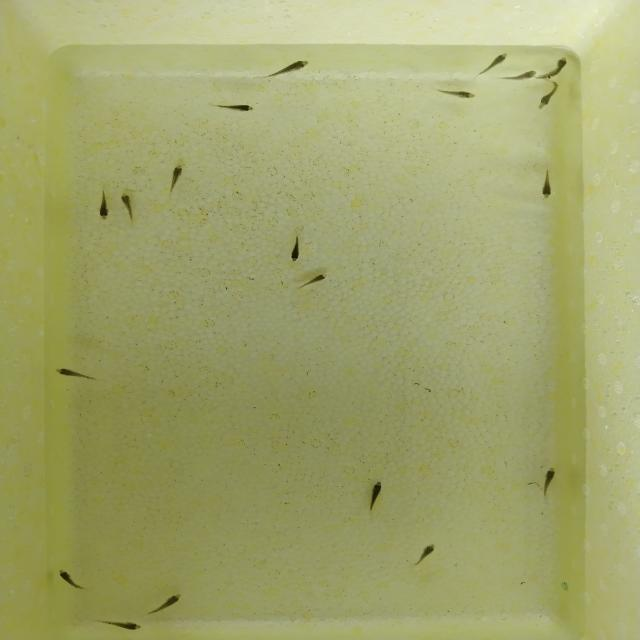fingerling: (536, 462, 568, 498), (54, 569, 92, 592), (160, 587, 188, 611), (366, 480, 387, 511), (275, 59, 315, 74), (104, 618, 146, 632), (50, 366, 89, 381), (414, 545, 440, 567), (299, 272, 333, 288), (166, 162, 185, 188), (532, 93, 559, 110), (542, 163, 553, 204), (96, 194, 111, 223), (444, 88, 483, 99), (117, 192, 138, 212), (217, 103, 260, 112), (287, 236, 301, 263), (510, 70, 540, 82), (492, 48, 509, 68), (555, 55, 569, 73)
